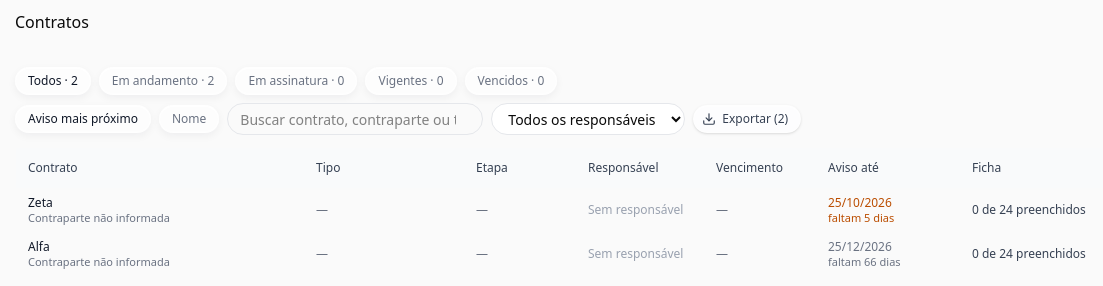
Test: ContractsPortfolioView › re-sorts by name
Check: the link "Zeta" is shown, box [28,195,53,211]
Click the button "Nome" at (189,119), box [159,105,219,133]
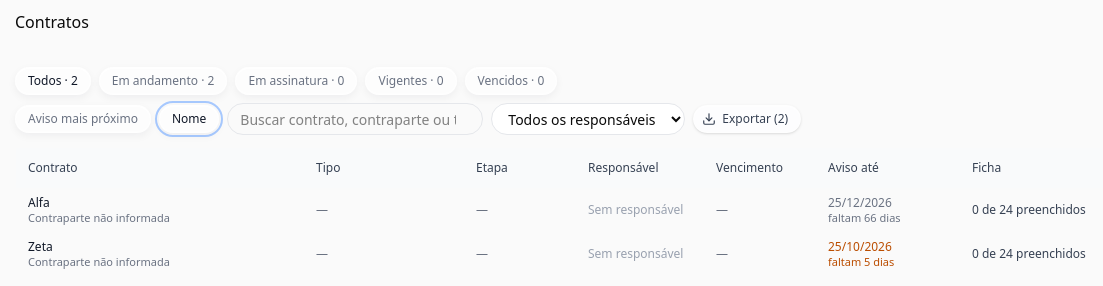
Check: the links read "Alfa", "Zeta", in this order, box [28,195,50,211]; [28,239,53,255]
